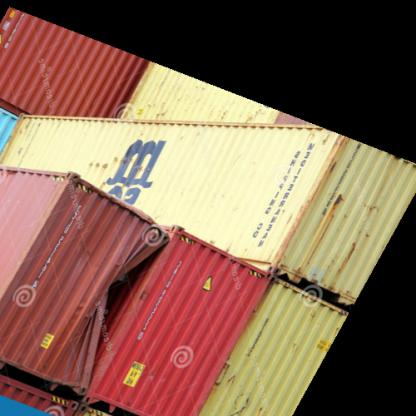Damage: (86, 254, 155, 342)
